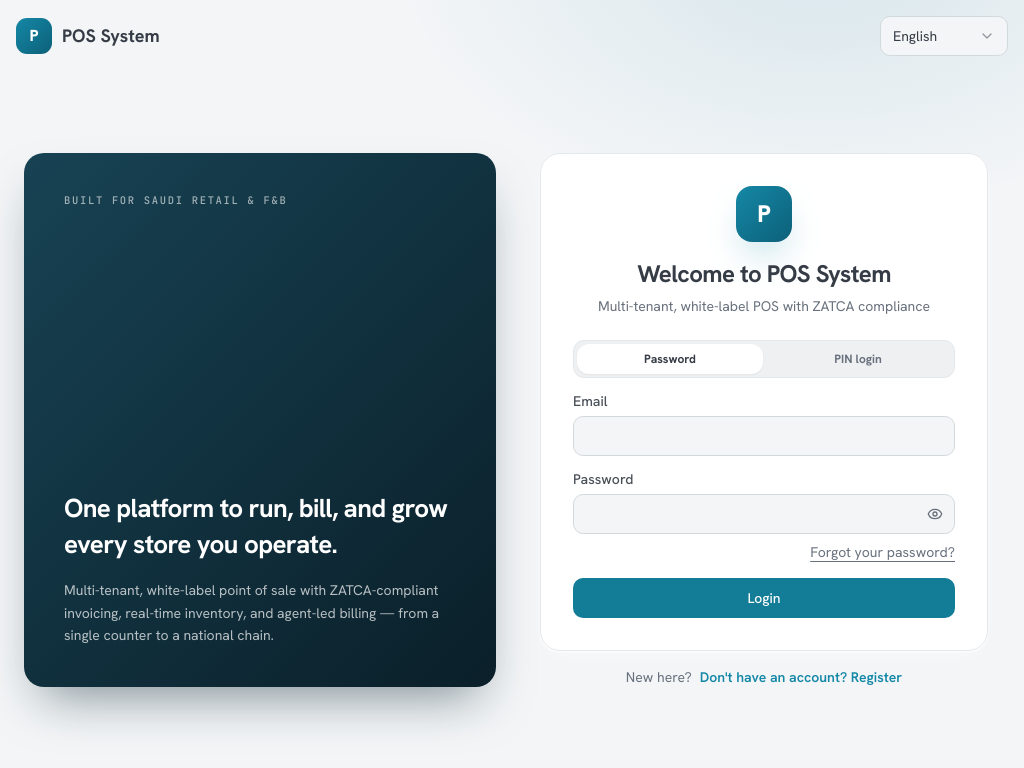
Test: Index (login) redesign — issue #242 › has a password-visibility toggle that flips the field between hidden and shown
The image size is (1024, 768).
Expected: the password field labelled "Password" is shown, [573,494,955,534]
Click the button named "show password" at (935, 514), box [915,494,955,534]
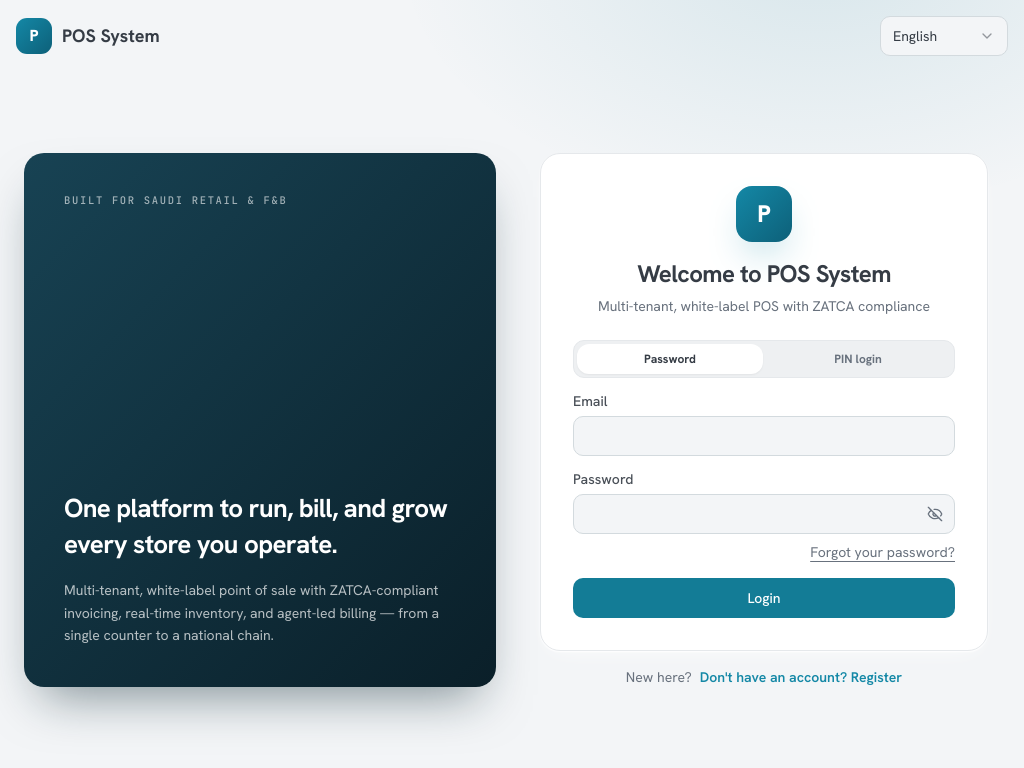
Now the button named "hide password" is shown, box [915,494,955,534]
